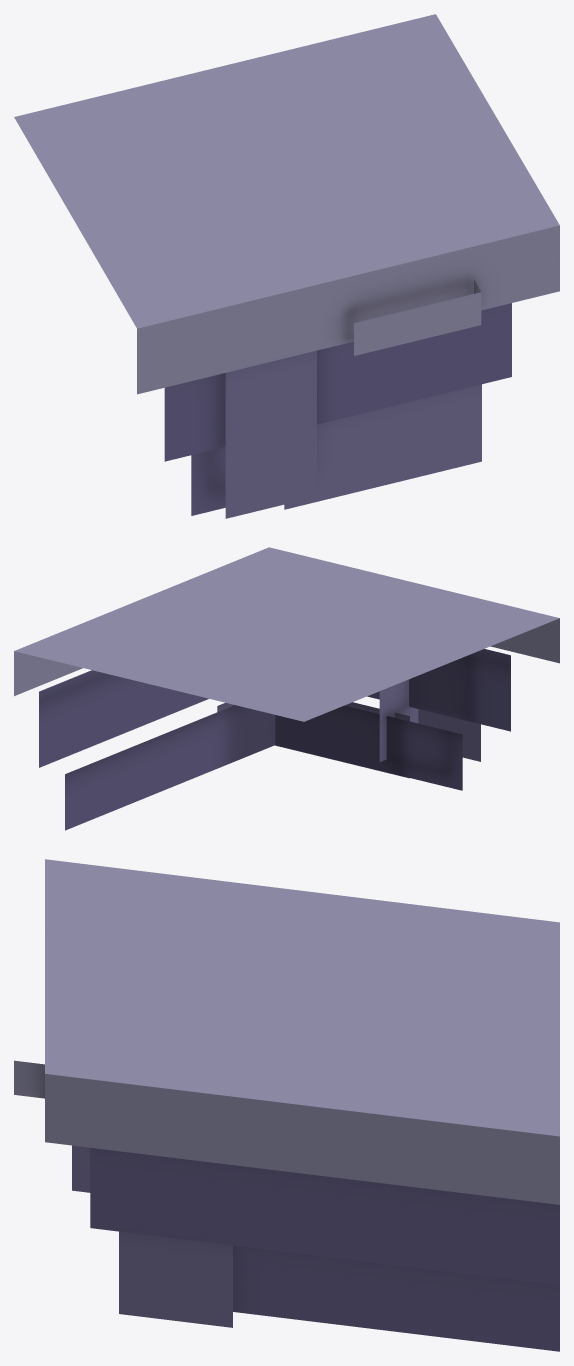
Rendered from Field_Type_02_04.FBX.
3 renders of one model, top to bottom at view 1: azimuth 30°, elevation 25°; view 2: azimuth 150°, elevation 25°; view 3: azimuth 270°, elevation 25°, orthographic. The views are drawn at different scales.
Visible parts, largest first — view 1: Field_Type_02_04; view 2: Field_Type_02_04; view 3: Field_Type_02_04.
Part boxes in pixels (<box>): Field_Type_02_04: <box>14,14,559,518</box>; Field_Type_02_04: <box>14,547,559,830</box>; Field_Type_02_04: <box>14,859,559,1351</box>.
Bounding box in the file's own units: 13.77 × 6.06 × 11.45.
